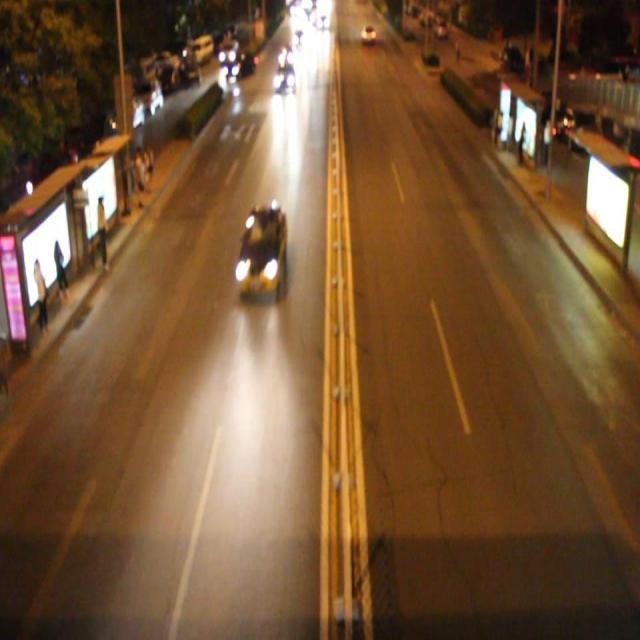car: (235, 200, 287, 292), (274, 58, 296, 90)
